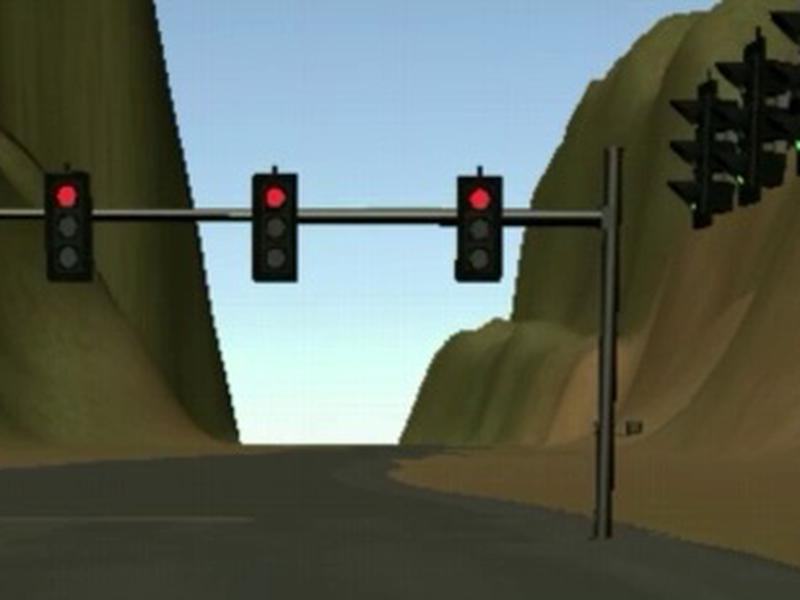Red: (454, 175, 503, 282), (45, 173, 92, 281), (253, 172, 296, 281)
